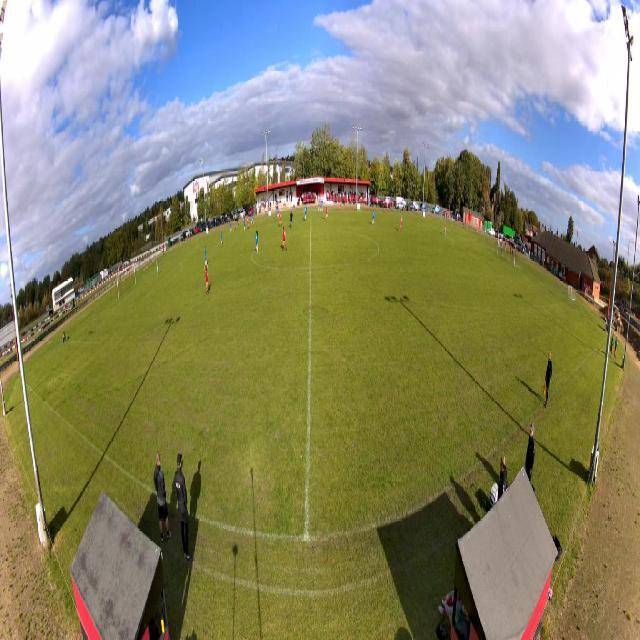player: (204, 262, 209, 296), (283, 226, 287, 251), (255, 229, 259, 253), (204, 245, 208, 264), (325, 206, 329, 223), (278, 212, 282, 228), (290, 209, 293, 229), (372, 208, 375, 225), (156, 259, 159, 276), (320, 198, 323, 215), (305, 204, 308, 220), (247, 216, 250, 231), (251, 212, 254, 226), (401, 214, 403, 232), (318, 196, 320, 214), (221, 228, 223, 245), (230, 218, 232, 233), (277, 205, 279, 219), (244, 219, 246, 233), (234, 218, 236, 232), (339, 202, 342, 211), (386, 202, 388, 213), (445, 222, 446, 236)
